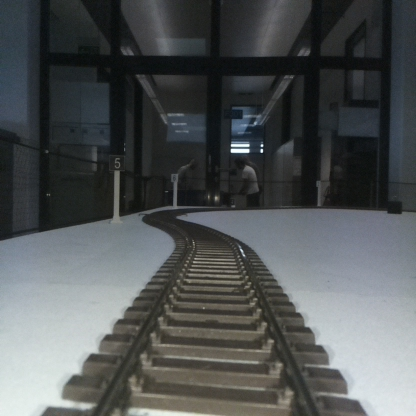black-info-5: (109, 156, 125, 222)
